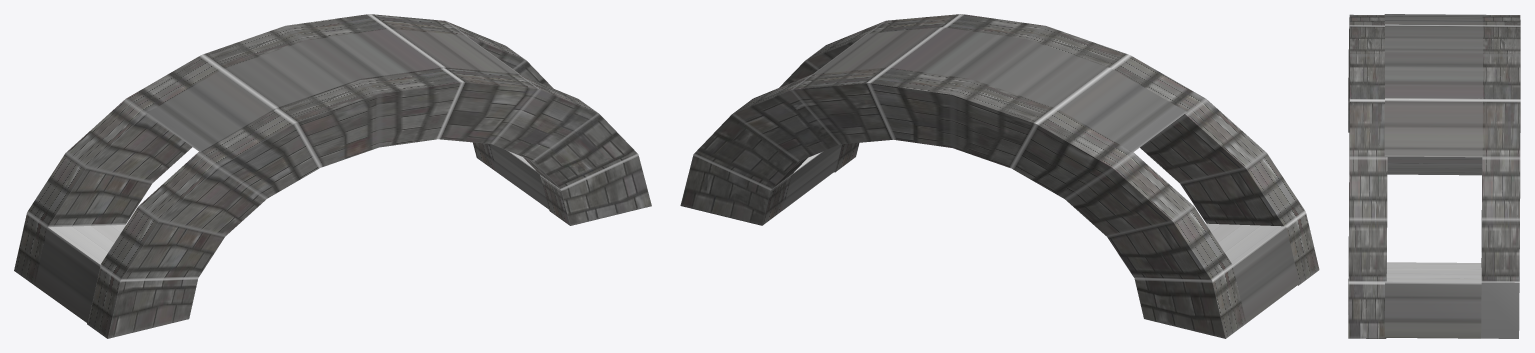
The model's file is wallTop.obj.
The picture shows the model from 3 angles, left to right: view 1: azimuth 30°, elevation 25°; view 2: azimuth 150°, elevation 25°; view 3: azimuth 270°, elevation 25°; orthographic projection. The views are drawn at different scales.
Parts seen in each view (by area): view 1: pPipe3; view 2: pPipe3; view 3: pPipe3.
Part boxes in pixels (bbox=[...]): pPipe3: bbox=[14, 14, 651, 338]; pPipe3: bbox=[680, 14, 1319, 338]; pPipe3: bbox=[1348, 14, 1520, 338].
Size of the model in its own units: 6.98 by 2.2 by 2.1.
2 materials, 1 textured.
